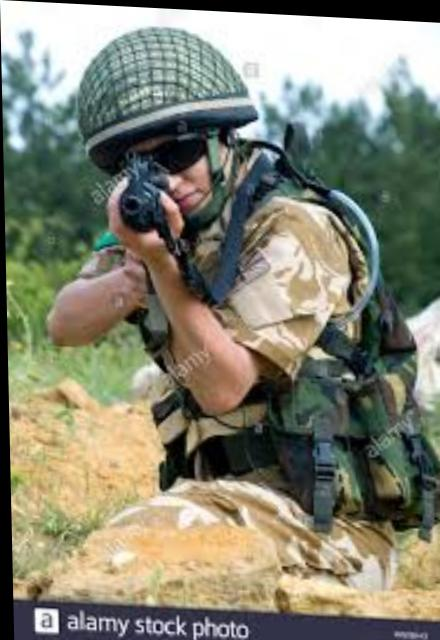other: (28, 18, 423, 482)
